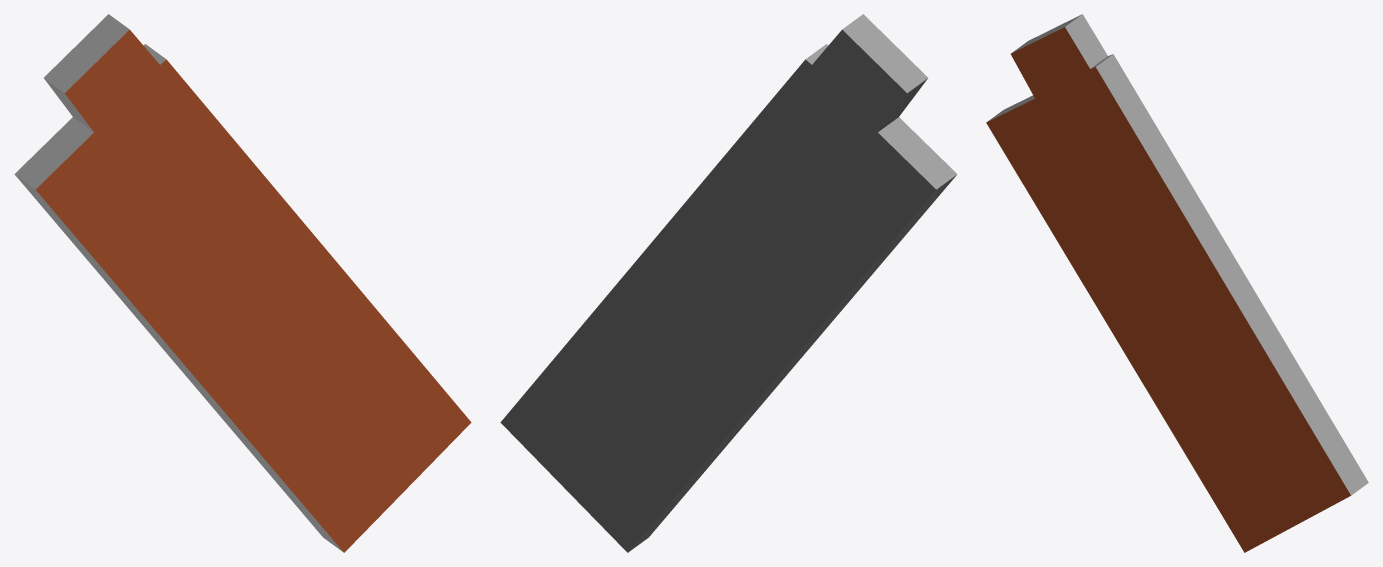
Rendered from construction_1762_assumed_A_Casa_h6m.obj.
The picture shows the model from 3 angles, left to right: view 1: azimuth 30°, elevation 25°; view 2: azimuth 150°, elevation 25°; view 3: azimuth 330°, elevation 25°; orthographic projection. The views are drawn at different scales.
Parts seen in each view (by area): view 1: construction_1762_assumed_A_Casa; view 2: construction_1762_assumed_A_Casa; view 3: construction_1762_assumed_A_Casa.
Part boxes in pixels (left/top/right/bottom): construction_1762_assumed_A_Casa: left=14, top=14, right=471, bottom=552; construction_1762_assumed_A_Casa: left=500, top=14, right=957, bottom=552; construction_1762_assumed_A_Casa: left=986, top=14, right=1368, bottom=552.
Size of the model in its own units: 71.35 by 90.05 by 6.
